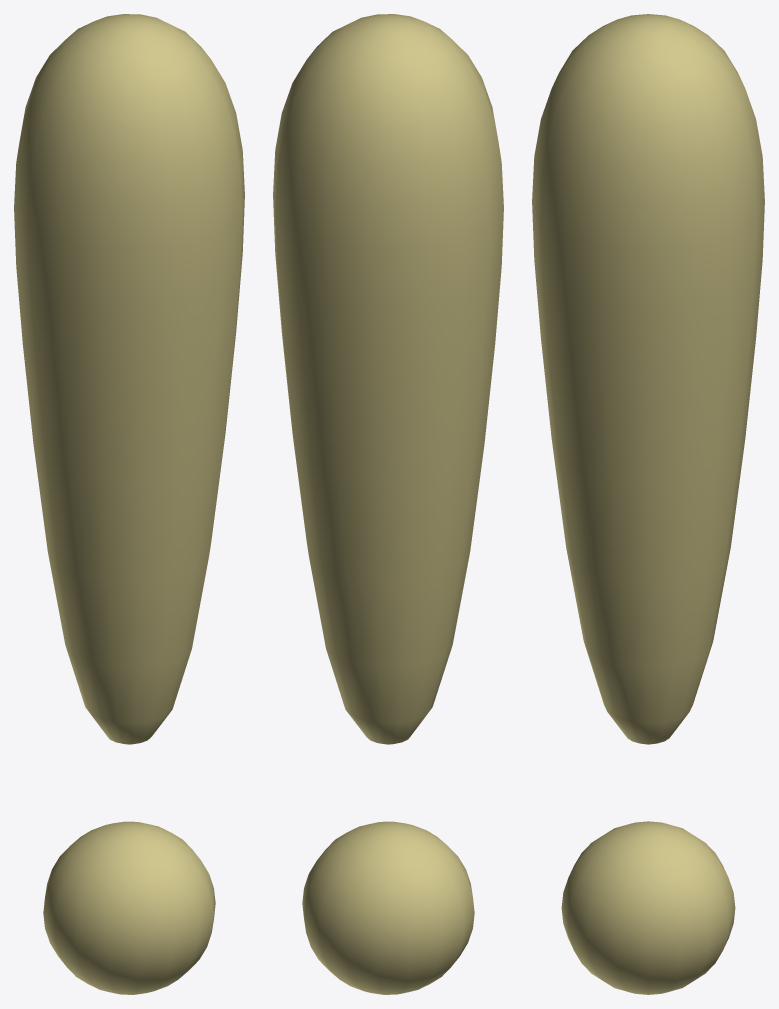
The model's file is exclamation.fbx.
3 renders of one model, left to right at view 1: azimuth 30°, elevation 25°; view 2: azimuth 150°, elevation 25°; view 3: azimuth 270°, elevation 25°, orthographic.
Visible parts, largest first — view 1: pSphere3; view 2: pSphere3; view 3: pSphere3.
Boxes of the visible parts, x1,y1,x2,y2 form: pSphere3: [14, 14, 244, 994]; pSphere3: [273, 14, 503, 994]; pSphere3: [532, 14, 764, 994].
Size of the model in its own units: 2.68 by 12.24 by 2.68.
